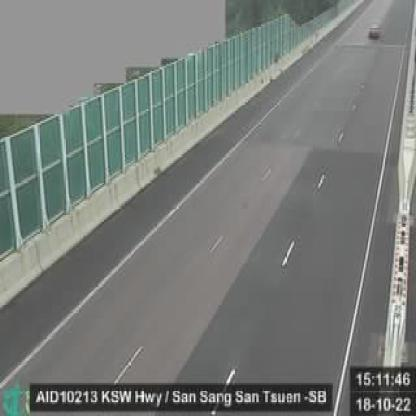Car: (369, 24, 383, 41)
